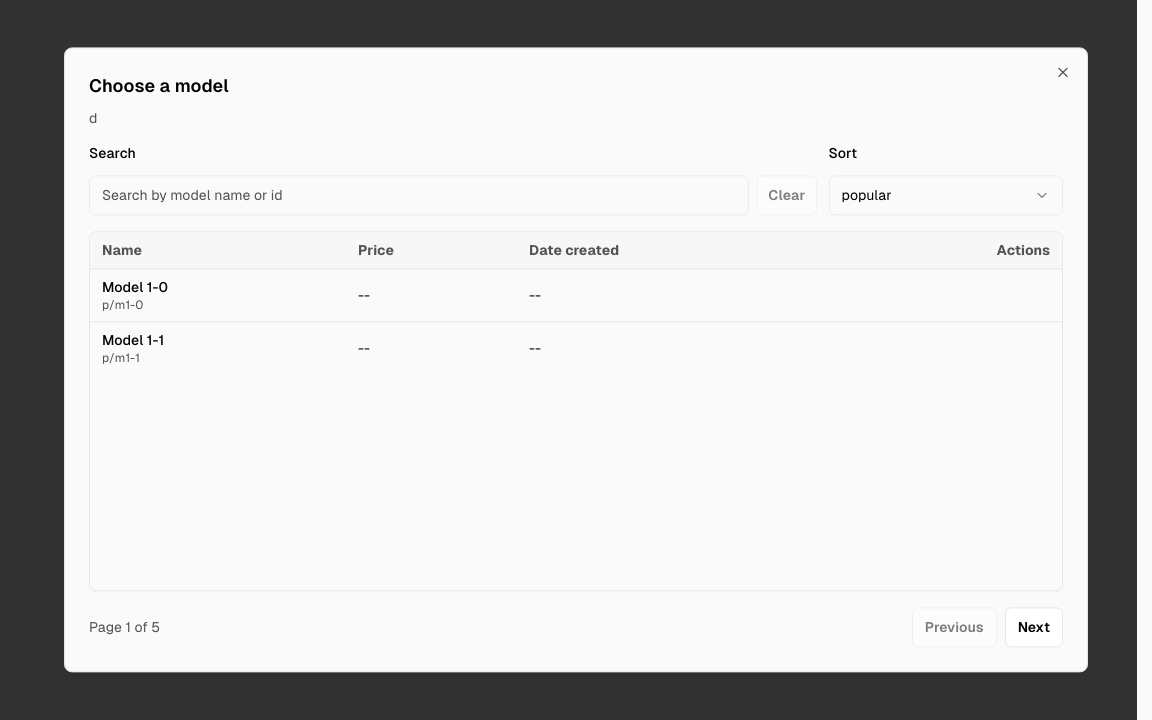
Test case: ModelCatalogDialog stale rows › keeps the page count while the next page of the same catalog loads
The width and height of the screenshot is (1152, 720).
Check: the text "Model 1-0" is shown, box left=102, top=280, right=168, bottom=296
Click the button "Next": (1034, 628) left=1005, top=608, right=1063, bottom=648
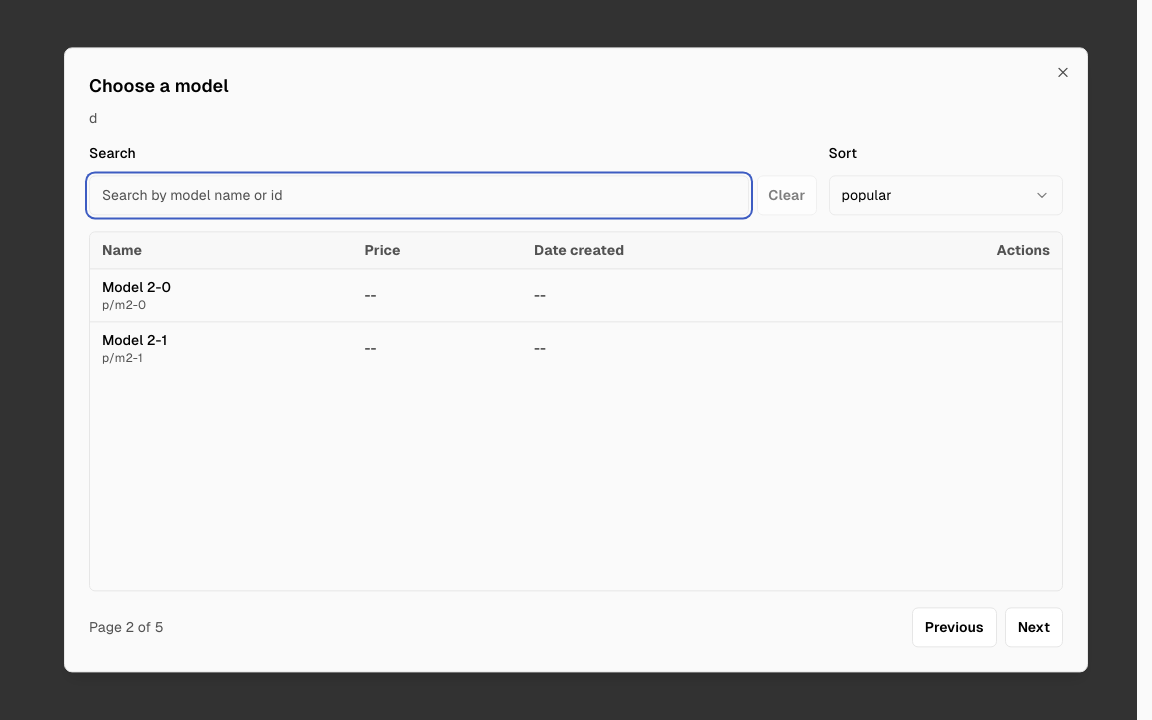
Check: the text "Page 2 of 5" is shown, box left=89, top=618, right=163, bottom=638
Check: the text "Model 2-0" is shown, box left=102, top=280, right=171, bottom=296
